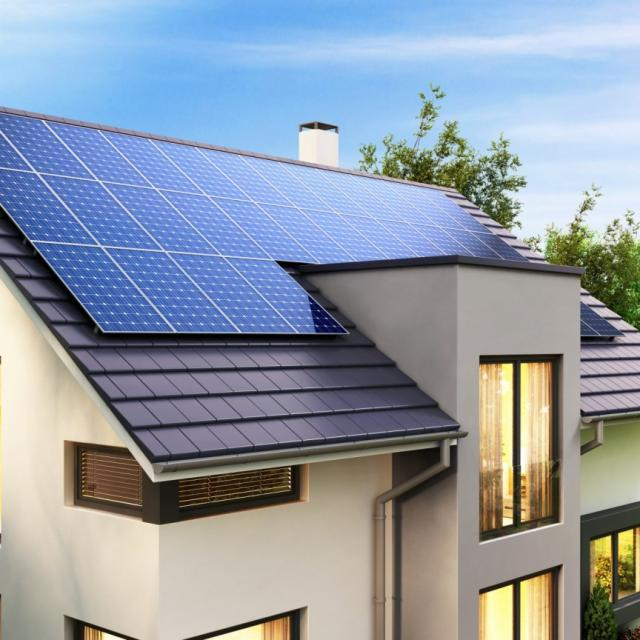clean-solar-panel: (0, 111, 528, 334)
